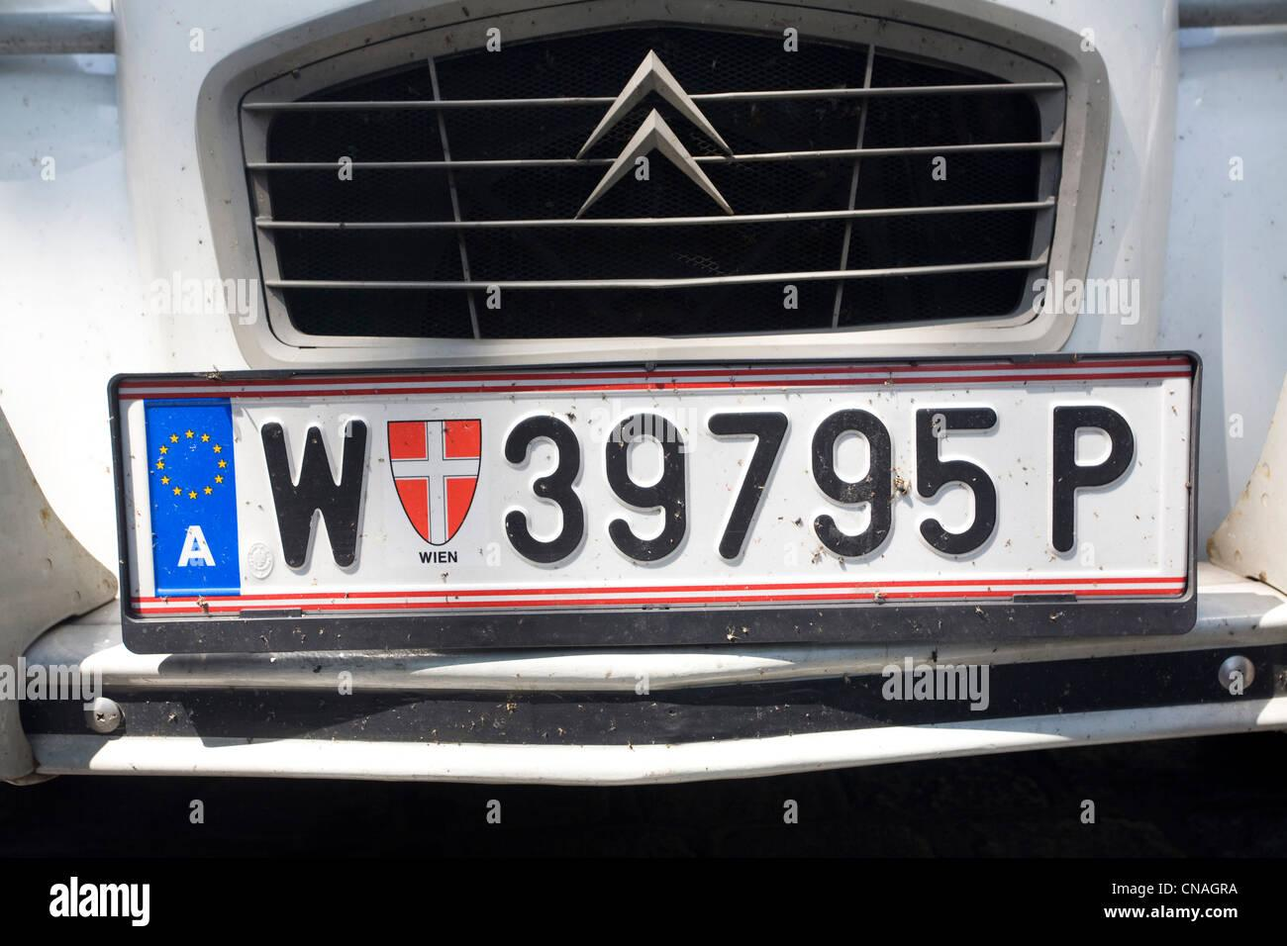license-plates: (109, 352, 1202, 653)
